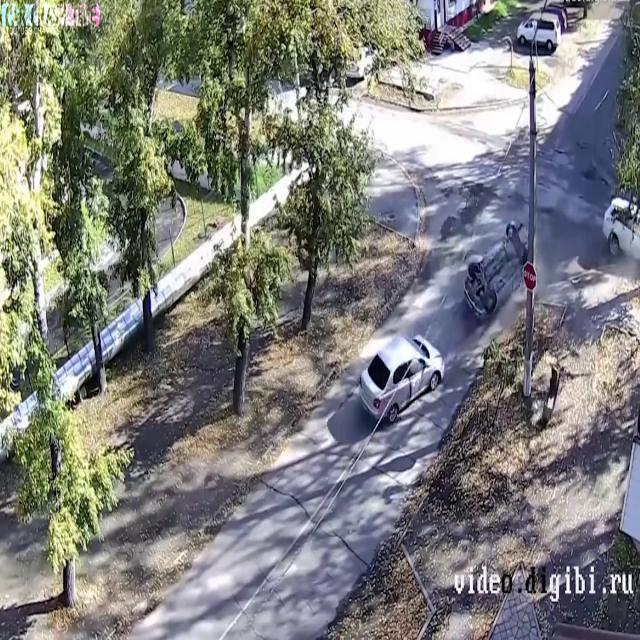Accident: (349, 278, 454, 455), (456, 191, 546, 368)
